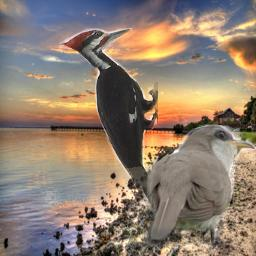Cuckoo: (142, 124, 255, 248)
Woodpecker: (59, 28, 158, 219)
